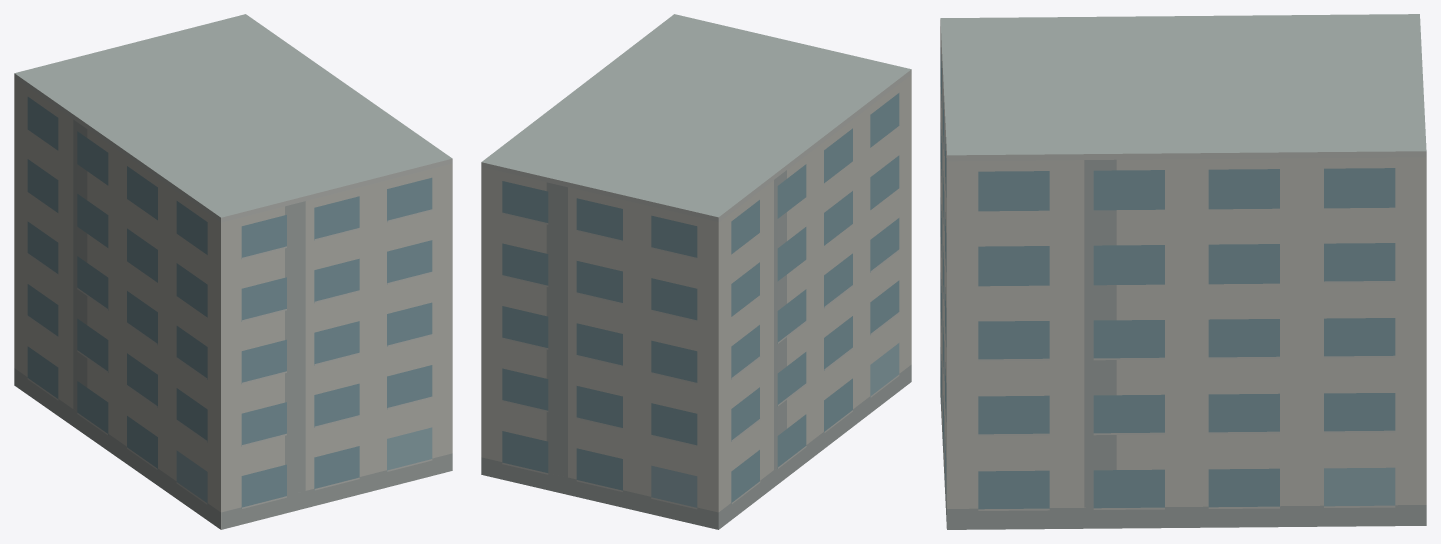
The model's file is survey-upis-32766990.glb.
The picture shows the model from 3 angles, left to right: view 1: azimuth 30°, elevation 25°; view 2: azimuth 150°, elevation 25°; view 3: azimuth 270°, elevation 25°; orthographic projection. The views are drawn at different scales.
Parts seen in each view (by area): view 1: survey-upis-32766990.tmp; view 2: survey-upis-32766990.tmp; view 3: survey-upis-32766990.tmp.
Boxes of the visible parts, x1,y1,x2,y2 form: survey-upis-32766990.tmp: (14,14,452,529); survey-upis-32766990.tmp: (481,14,911,529); survey-upis-32766990.tmp: (940,14,1426,529).
Size of the model in its own units: 12.43 by 15.35 by 18.07.
